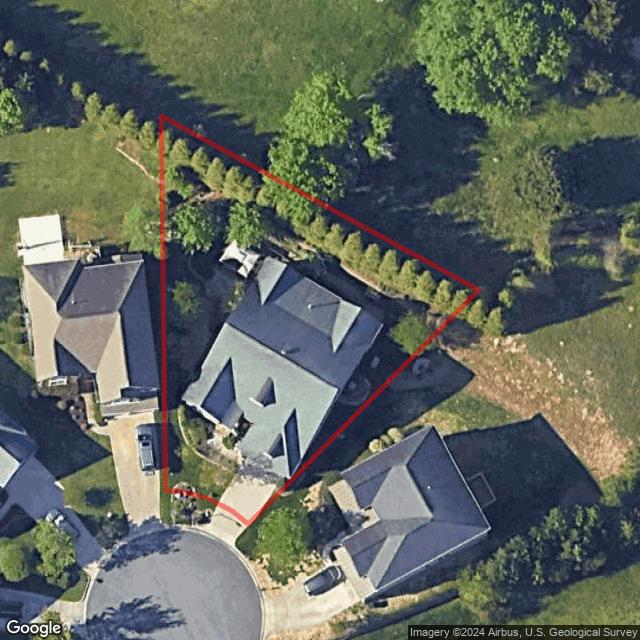Driveway: (216, 457, 286, 524)
Extra-Driveway: (203, 505, 248, 546)
Extra-Lawn: (164, 488, 174, 524), (196, 495, 217, 511)
Extra-Sidewalk: (164, 523, 209, 534)
House: (180, 252, 386, 481)
Lawn: (162, 117, 478, 524)
Other: (162, 117, 478, 332), (187, 231, 266, 311), (176, 399, 242, 487), (338, 373, 372, 406), (371, 356, 382, 368)
Sidewalk: (205, 424, 244, 466)
